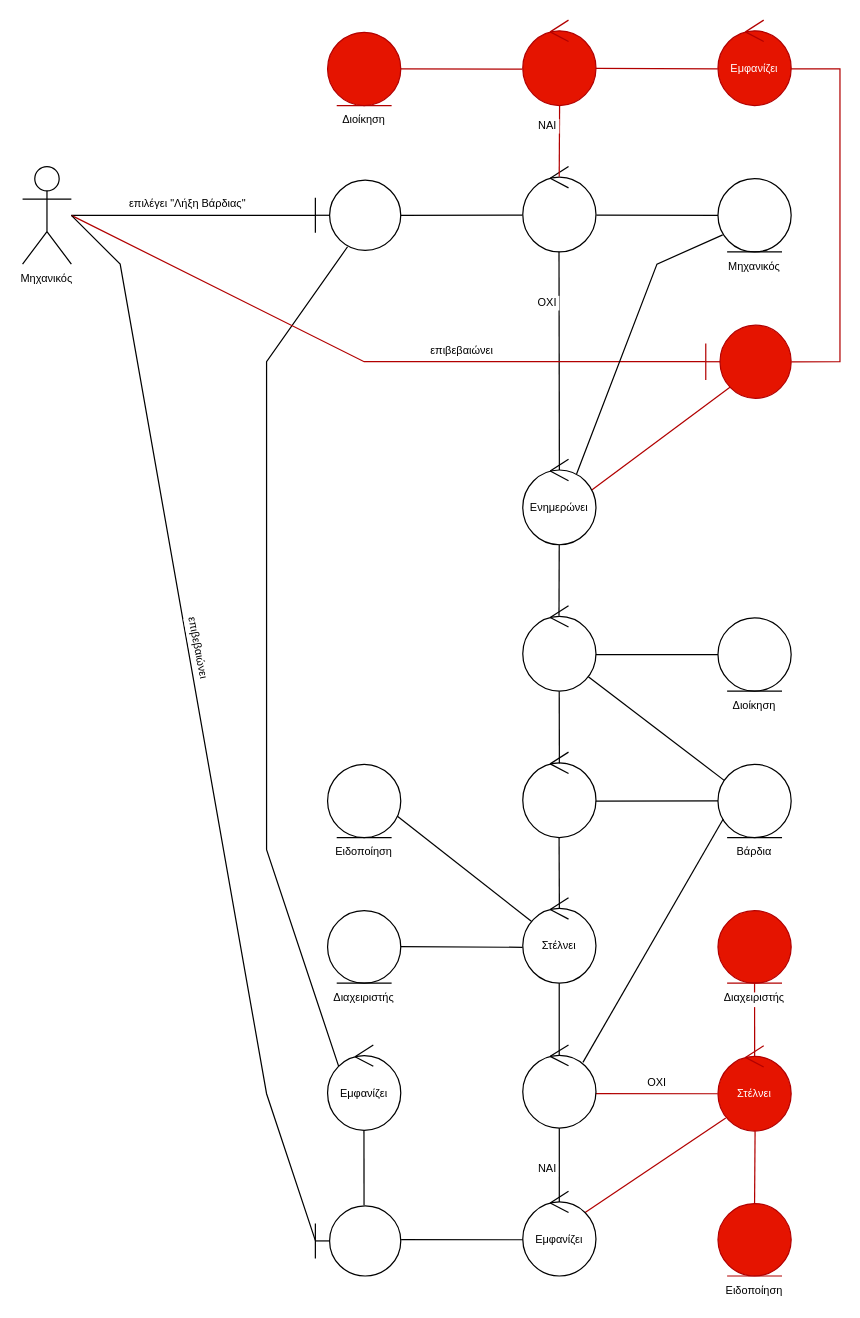
Some shapes in this 860 by 1318 pixel diagram are drawn without their labels. The centre of each missing label's shape, as x and y in pixels:
Ανακτά: point (559, 648)
Αφαιρεί: point (559, 794)
Εισάγει: point (559, 62)
Οθόνη Ενημέρωσης "Ώρες Εργασίας": point (357, 1240)
Οθόνη Ενημέρωσης ¨"Υπενθύμιση Ραντεβού": point (748, 361)
Οθόνη Επιλογής "Αρχικό Μενού": point (357, 214)
Υπάρχει ενεργό Ραντεβού?: point (559, 208)
Υπάρχουν άλλοι Μηχανικοί?: point (559, 1086)
